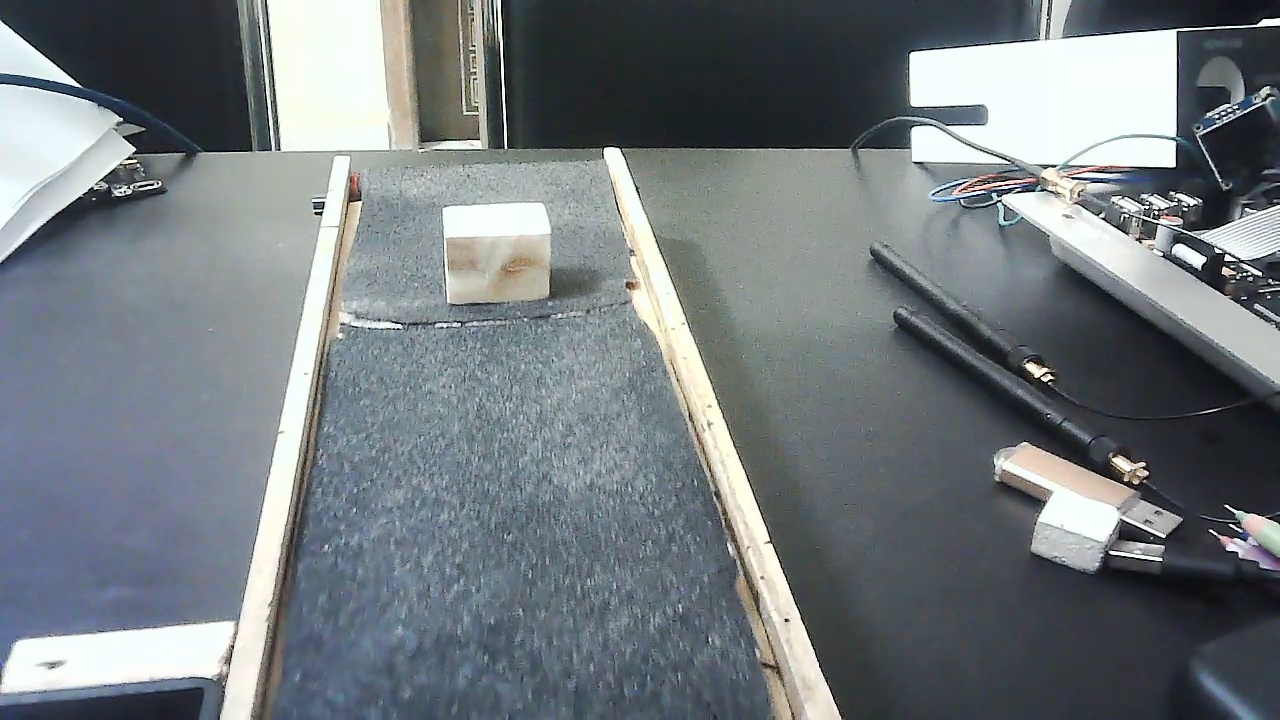Medium: (441, 199, 552, 310)
